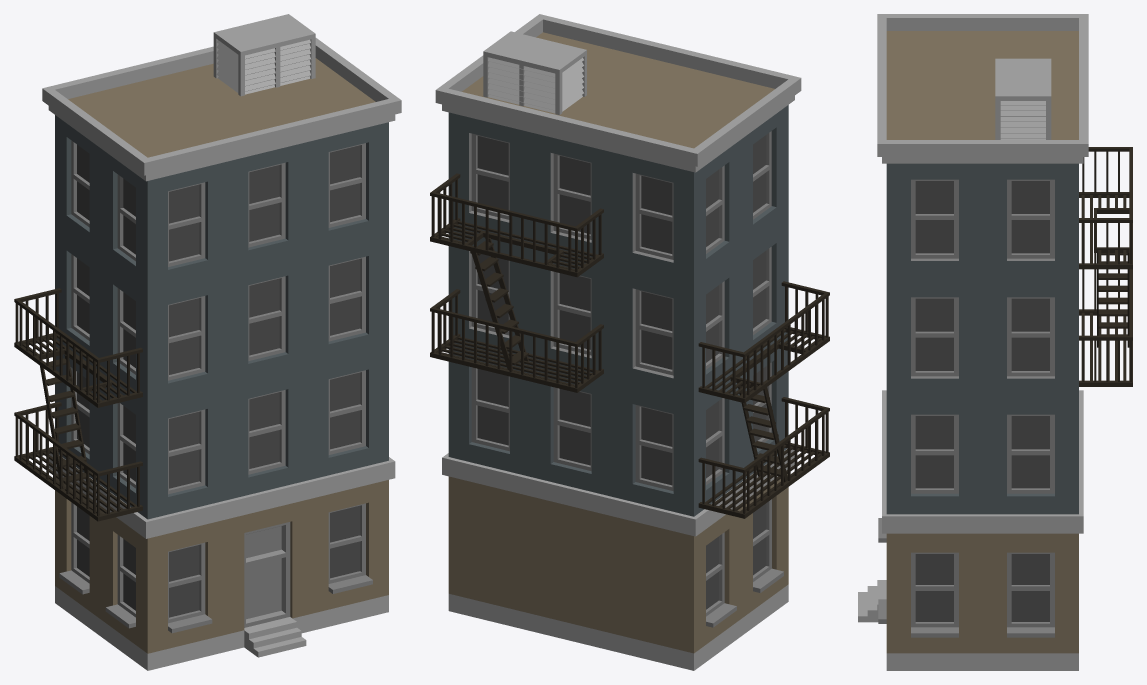
File: Buiding_6.fbx
3 views of the same model, side by side, from view 1: azimuth 30°, elevation 25°; view 2: azimuth 150°, elevation 25°; view 3: azimuth 270°, elevation 25° (orthographic). The views are drawn at different scales.
Parts seen in each view (by area): view 1: Building_6; view 2: Building_6; view 3: Building_6.
Part boxes in pixels (left/top/right/bottom): Building_6: left=14, top=14, right=401, bottom=670; Building_6: left=430, top=14, right=829, bottom=670; Building_6: left=858, top=14, right=1132, bottom=670.
Size of the model in its own units: 3662 by 6478 by 2862.
